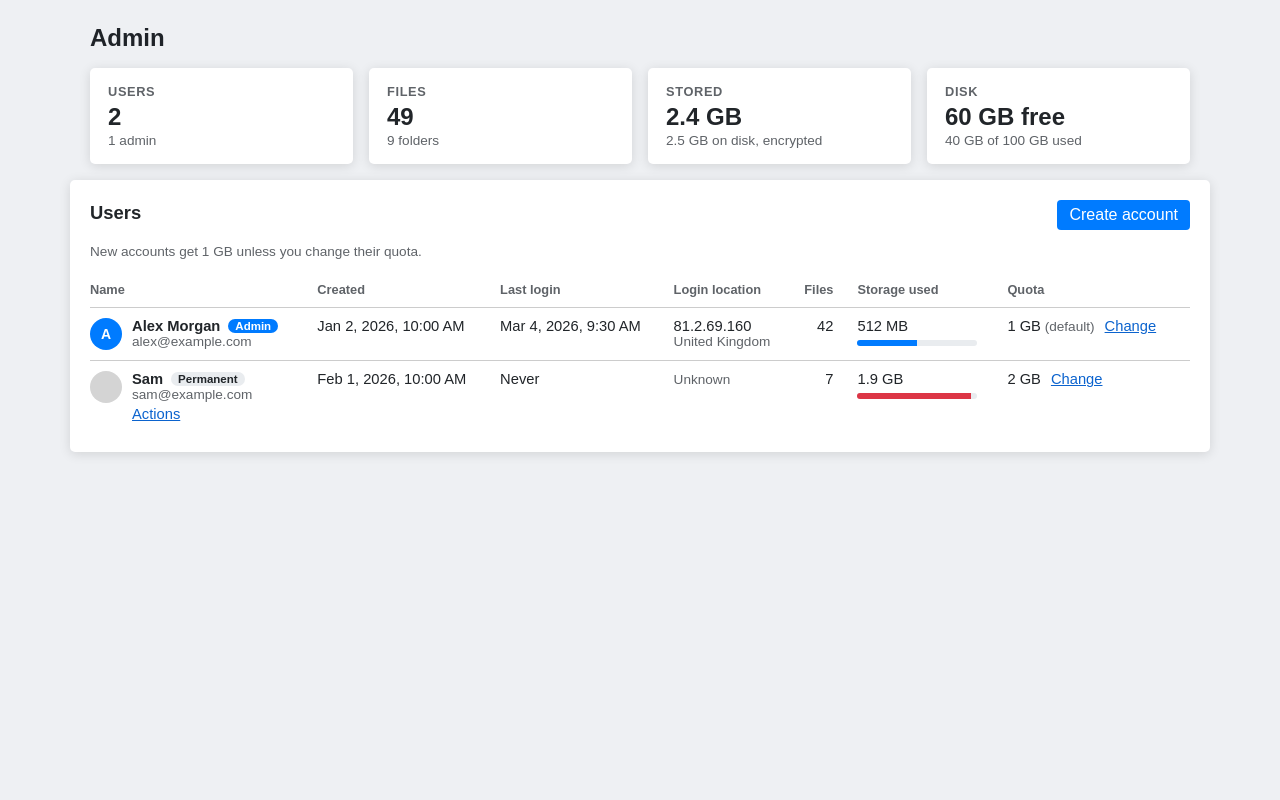
Admin page › set password › sets the password, closes and says so
Click the button with aria-label "Actions for sam@example.com".
click(156, 414)  # box [132, 406, 180, 422]
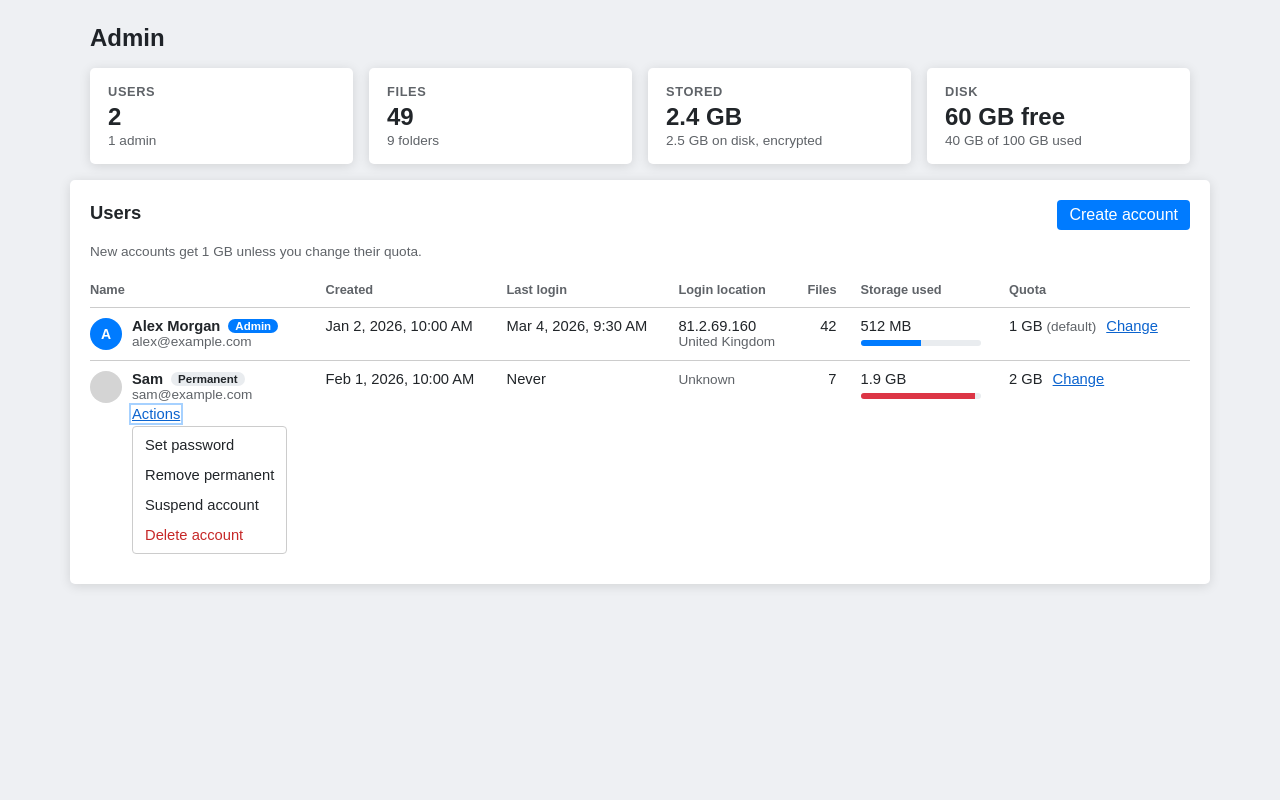
Click the menu item "Set password".
click(190, 445)  # box [137, 431, 242, 459]
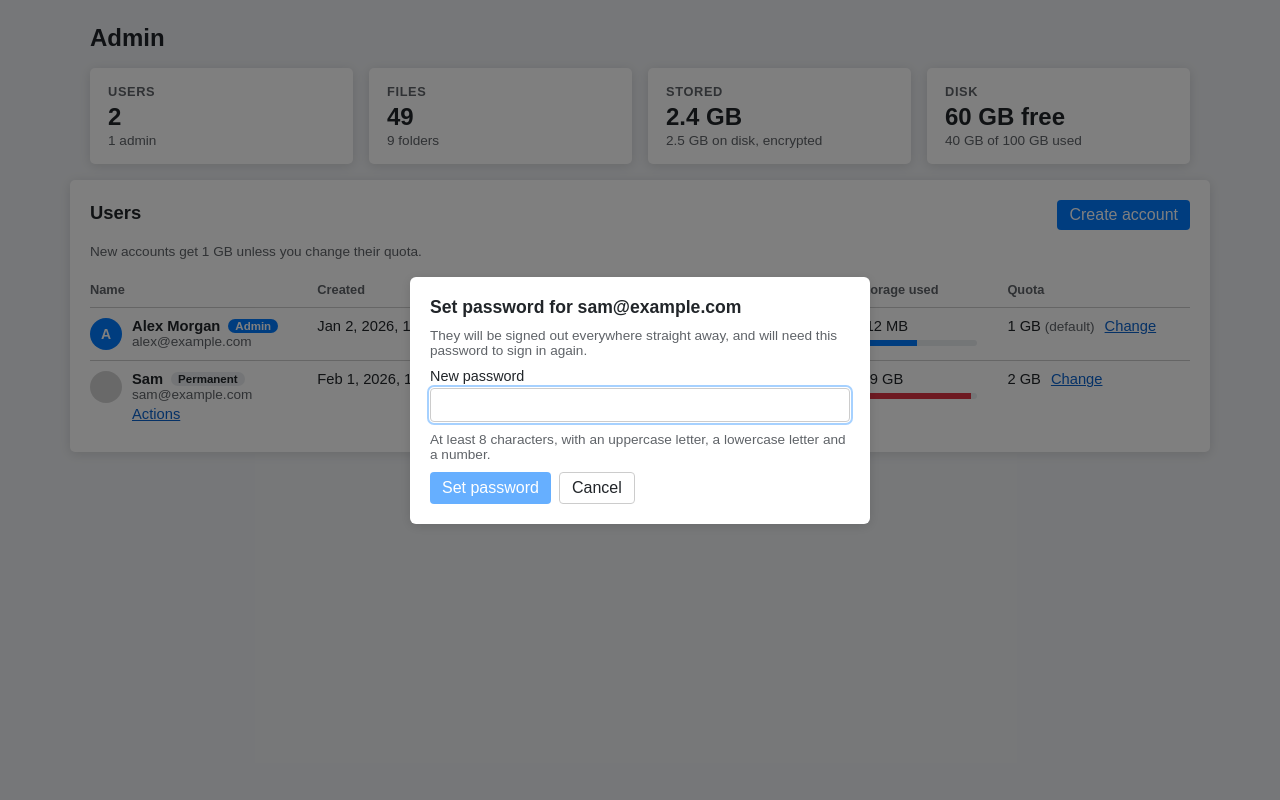
Type "N3wPassword" into the password field labelled "New password".
click(640, 404); type("N3wPassword")  # box [430, 388, 850, 422]
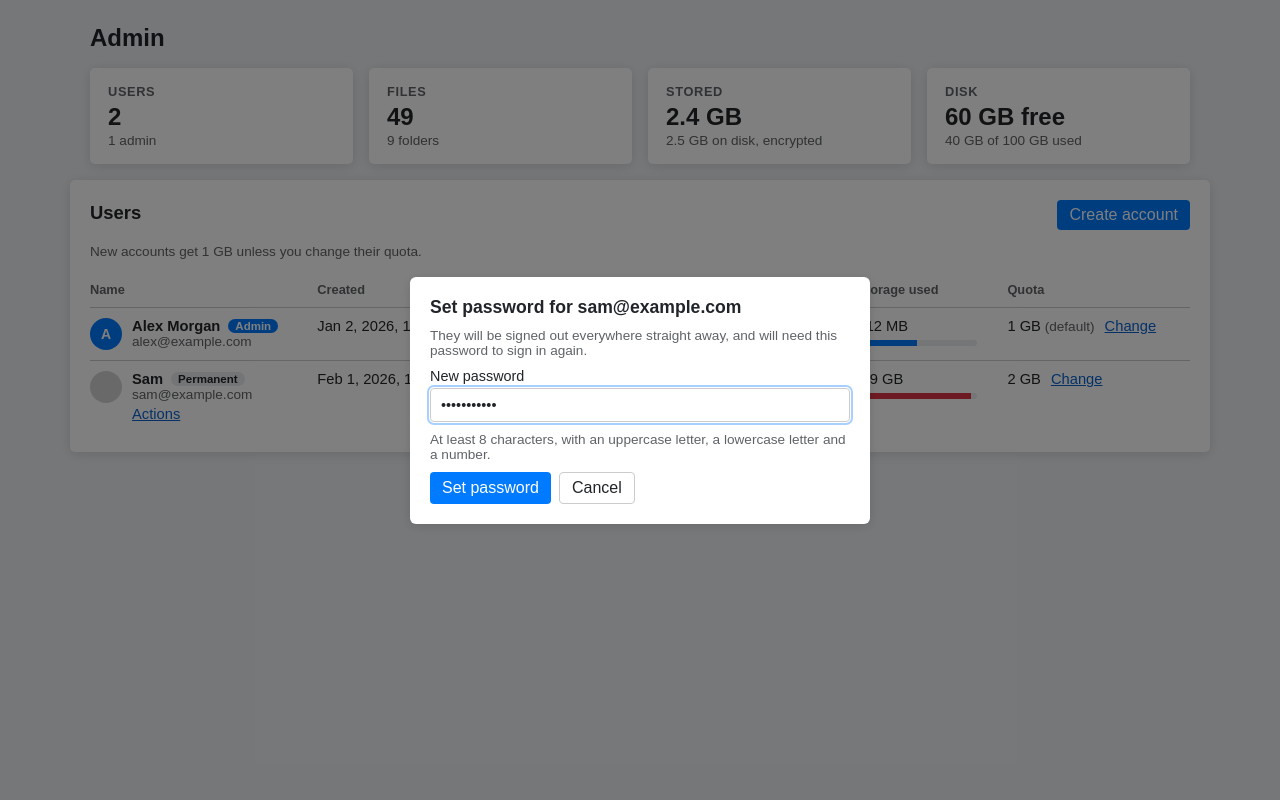
Click the button "Set password".
click(490, 488)  # box [430, 472, 551, 504]
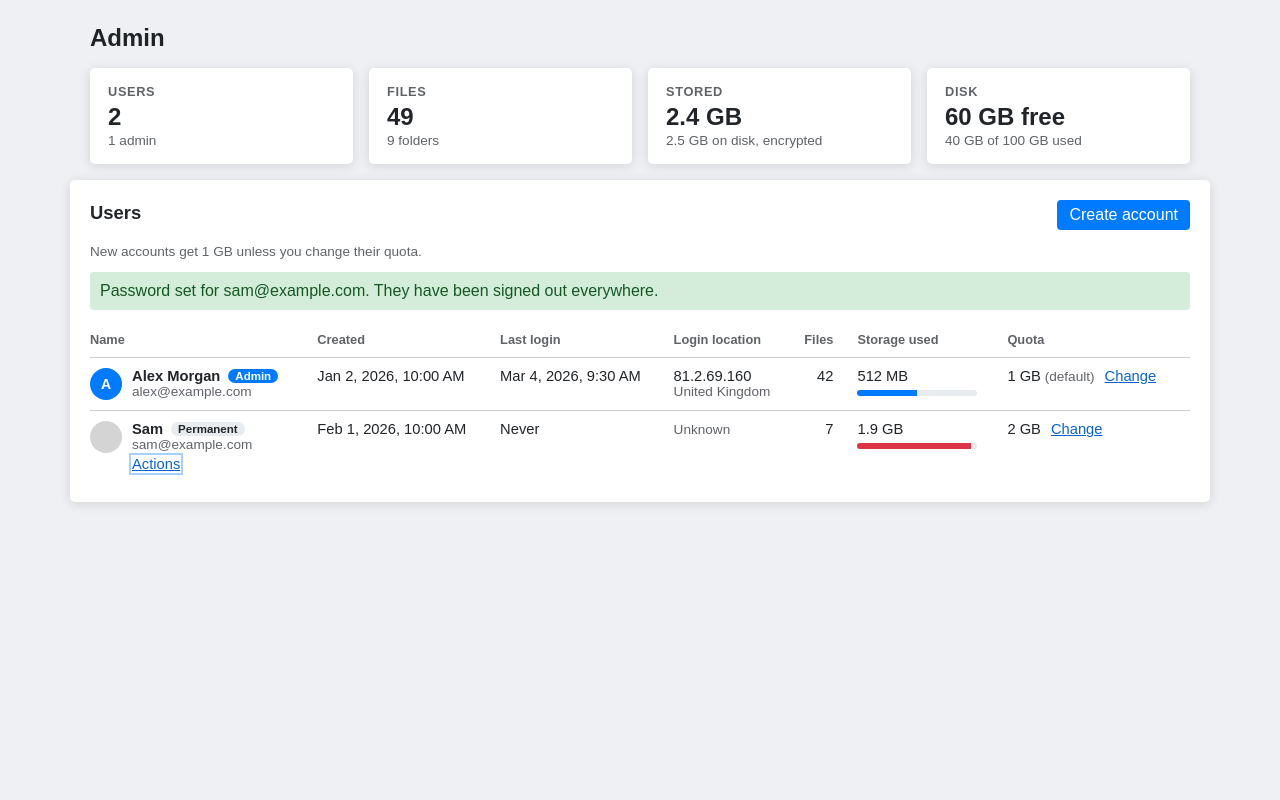
Expected: the message shows "Password set for sam@example.com", [100, 282, 658, 299]
Expected: the dialog is gone
